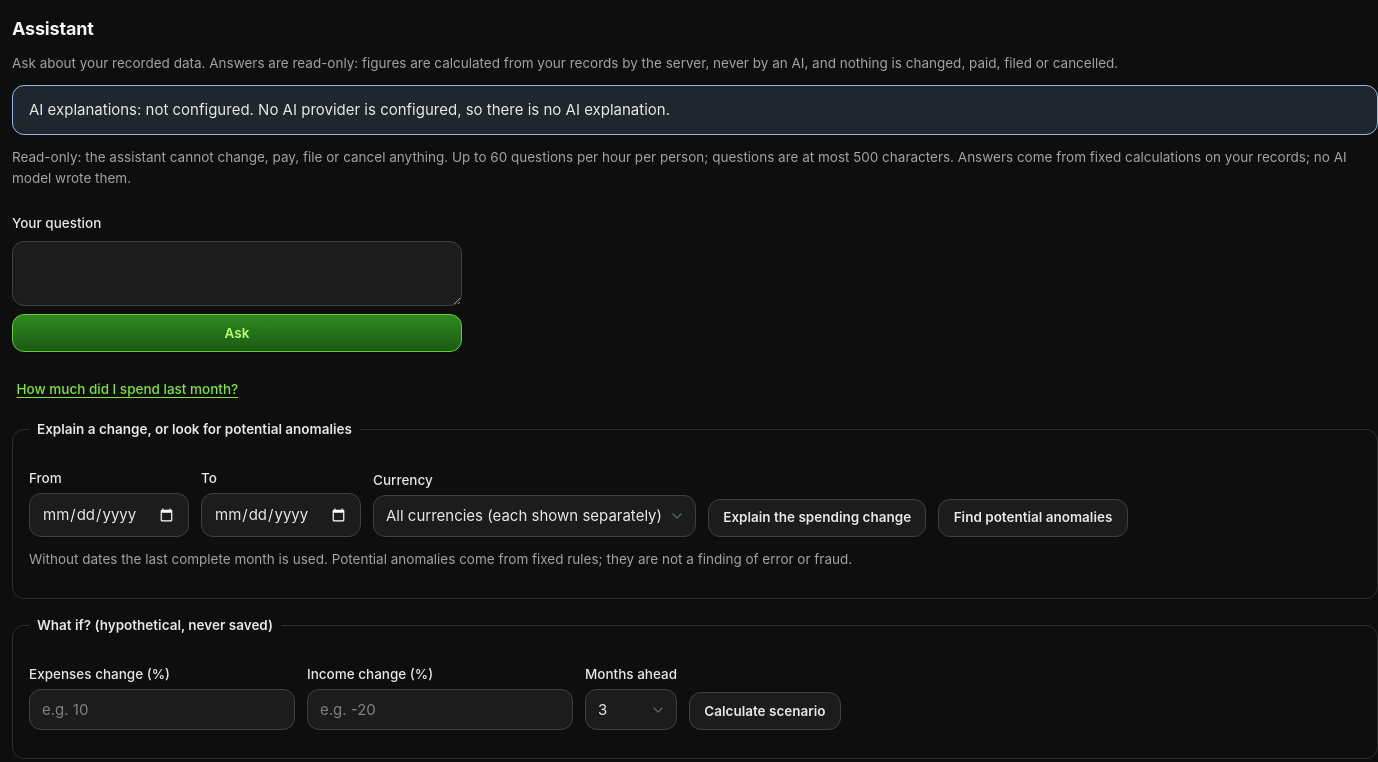
Test case: assistant › shows no-data, clarification and unsupported replies as information, not as errors or invented numbers
Type "spend last month" into the text box labelled "Your question".
click(237, 274); type("spend last month")  # box [12,241,462,306]
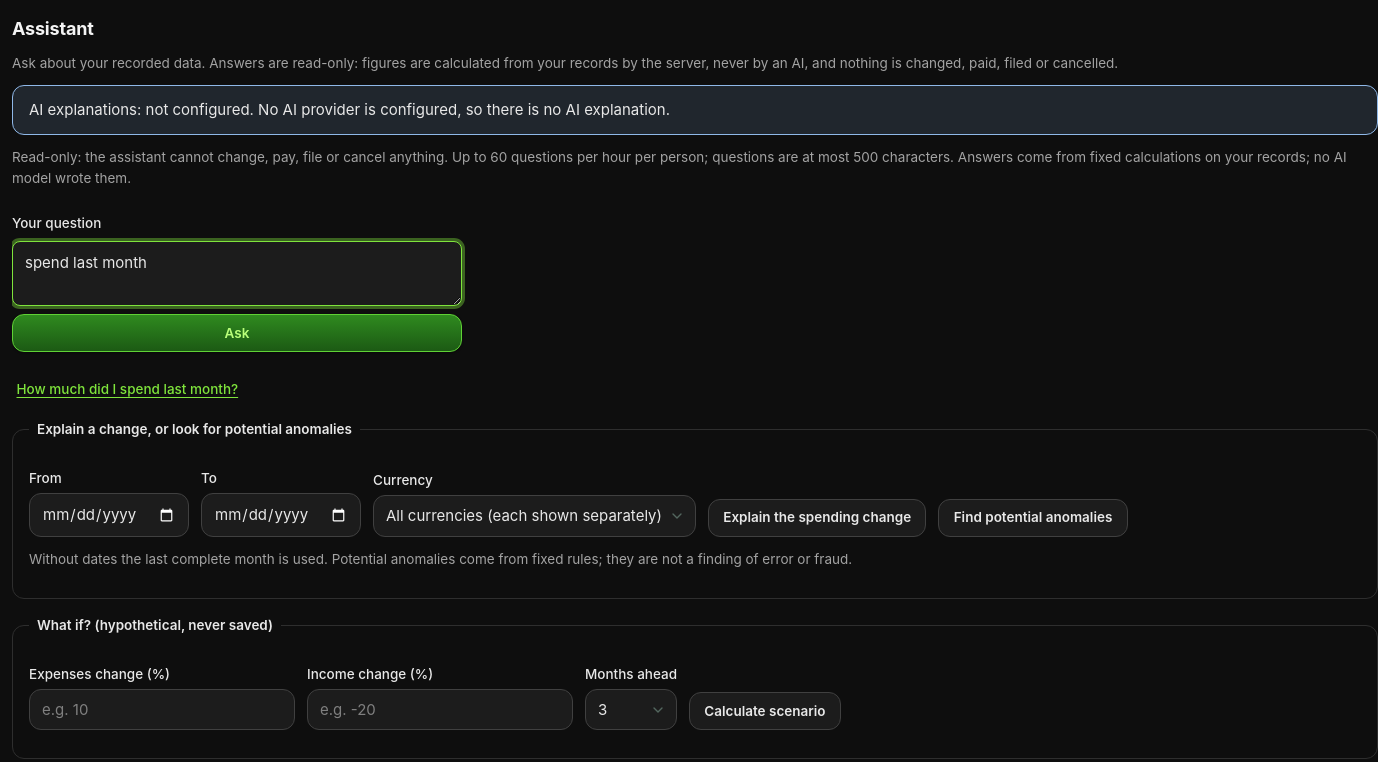
Click the button "Ask".
click(237, 333)  # box [12,314,462,352]
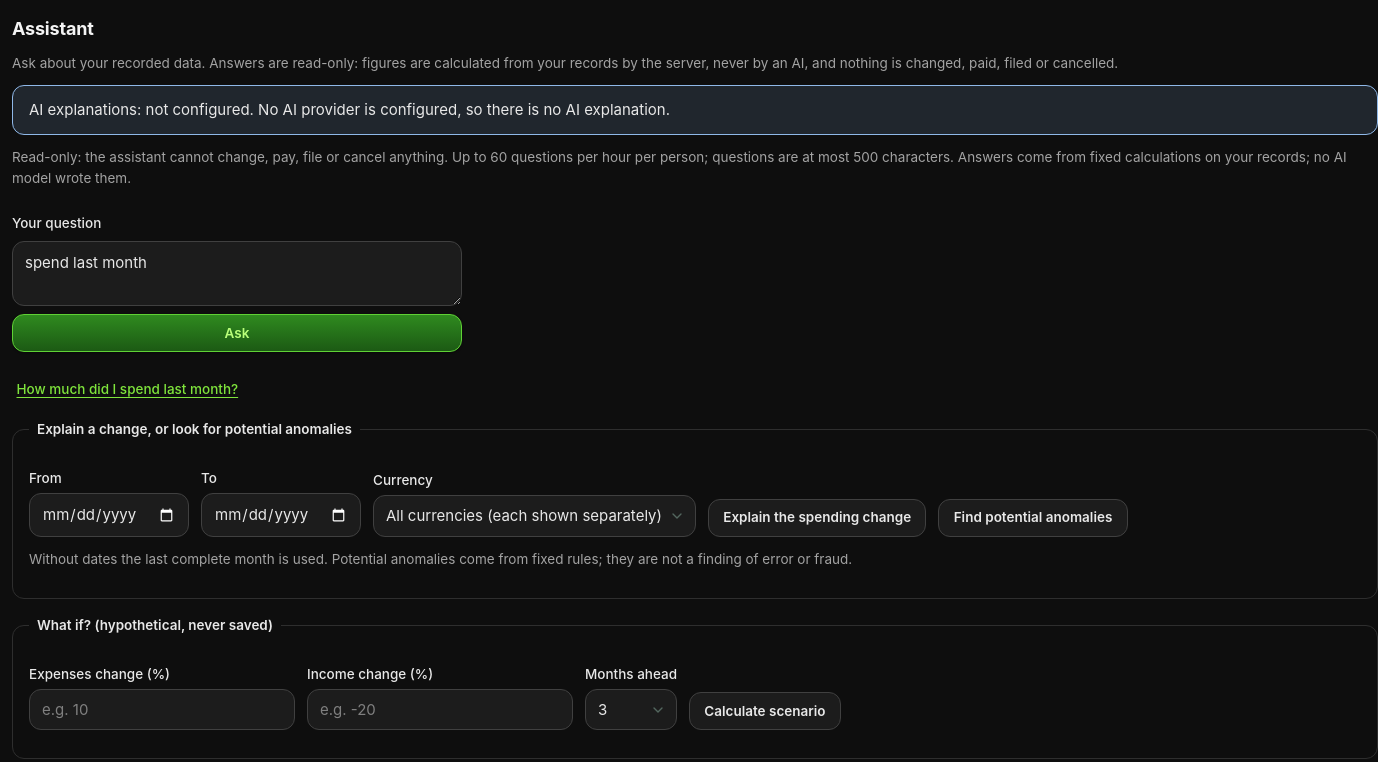
Replace the text in the text box labelled "Your question" with "what if" at (237, 274), box [12,241,462,306]
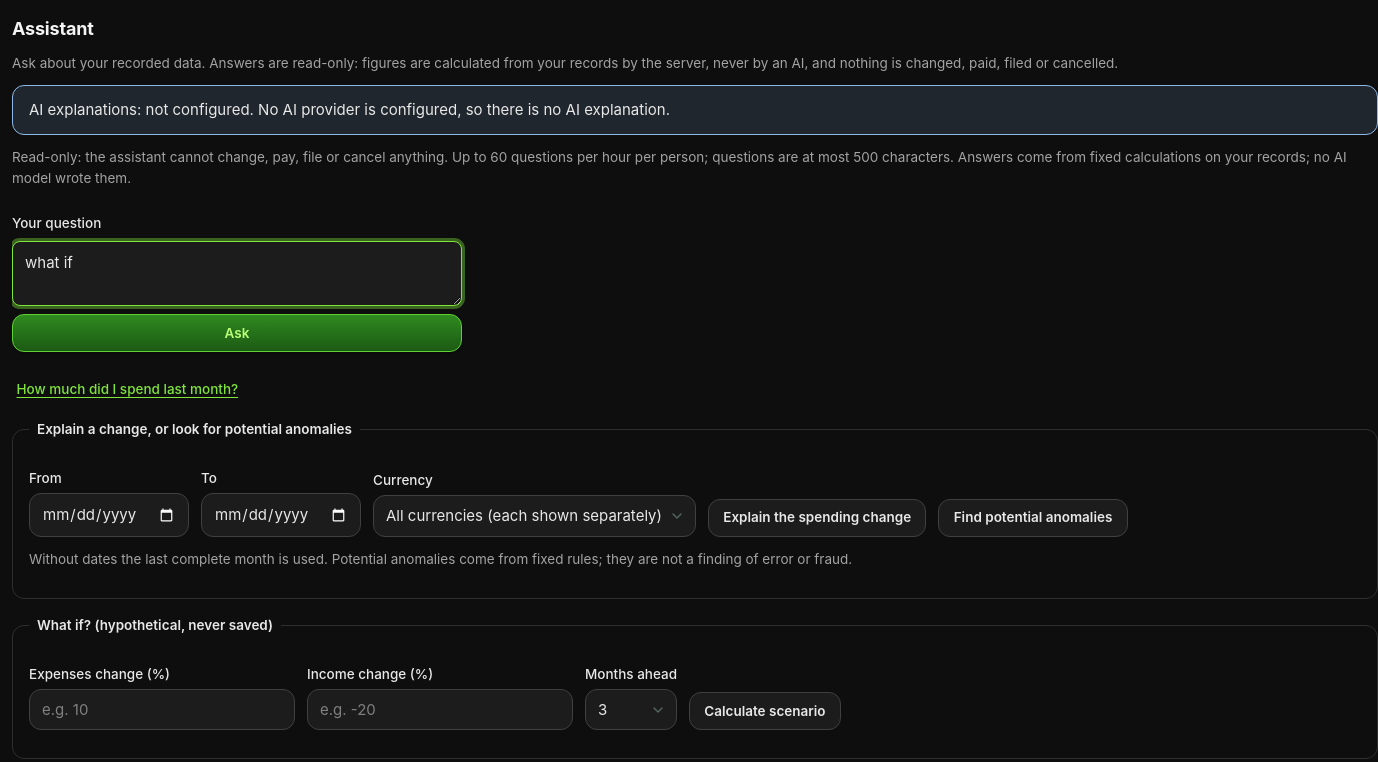
Click the button "Ask".
click(237, 333)  # box [12,314,462,352]
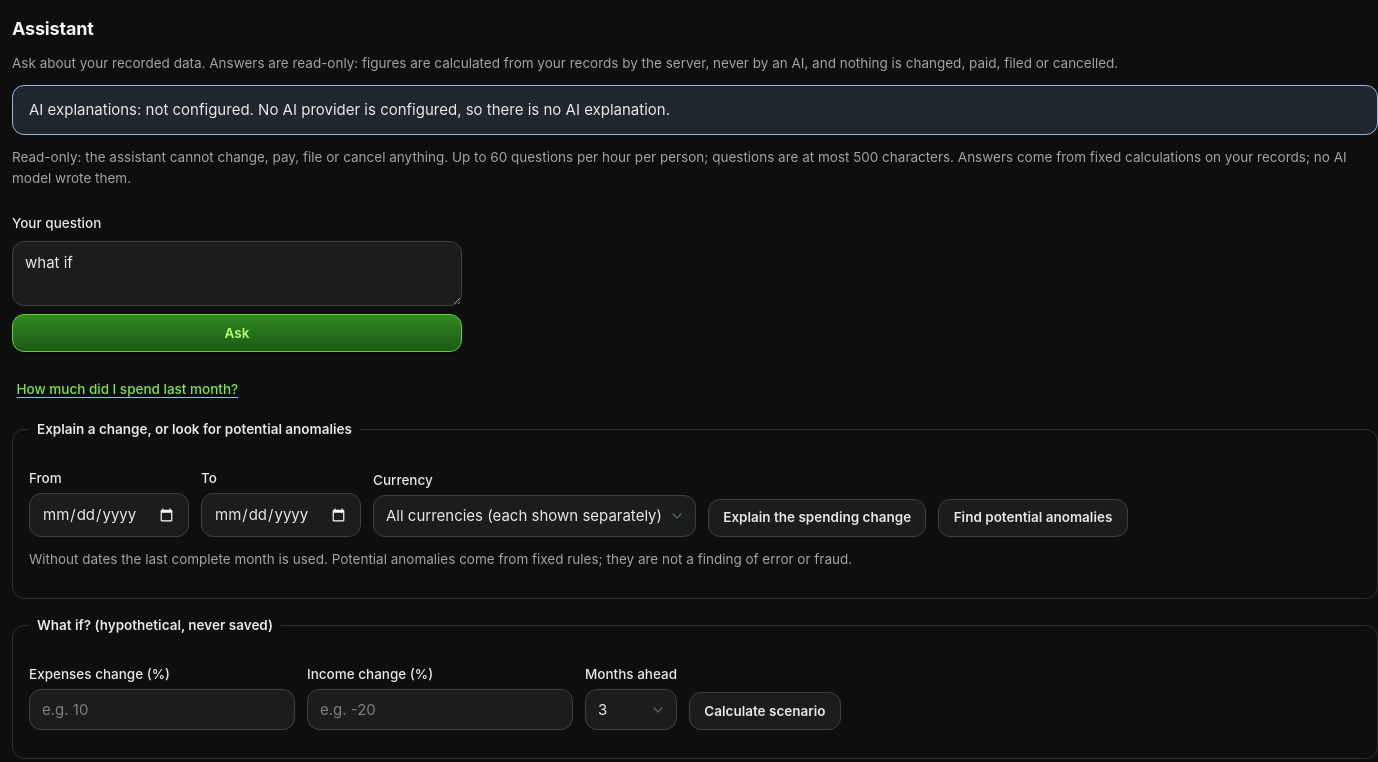
Replace the text in the text box labelled "Your question" with "show the api key" at (237, 274), box [12,241,462,306]
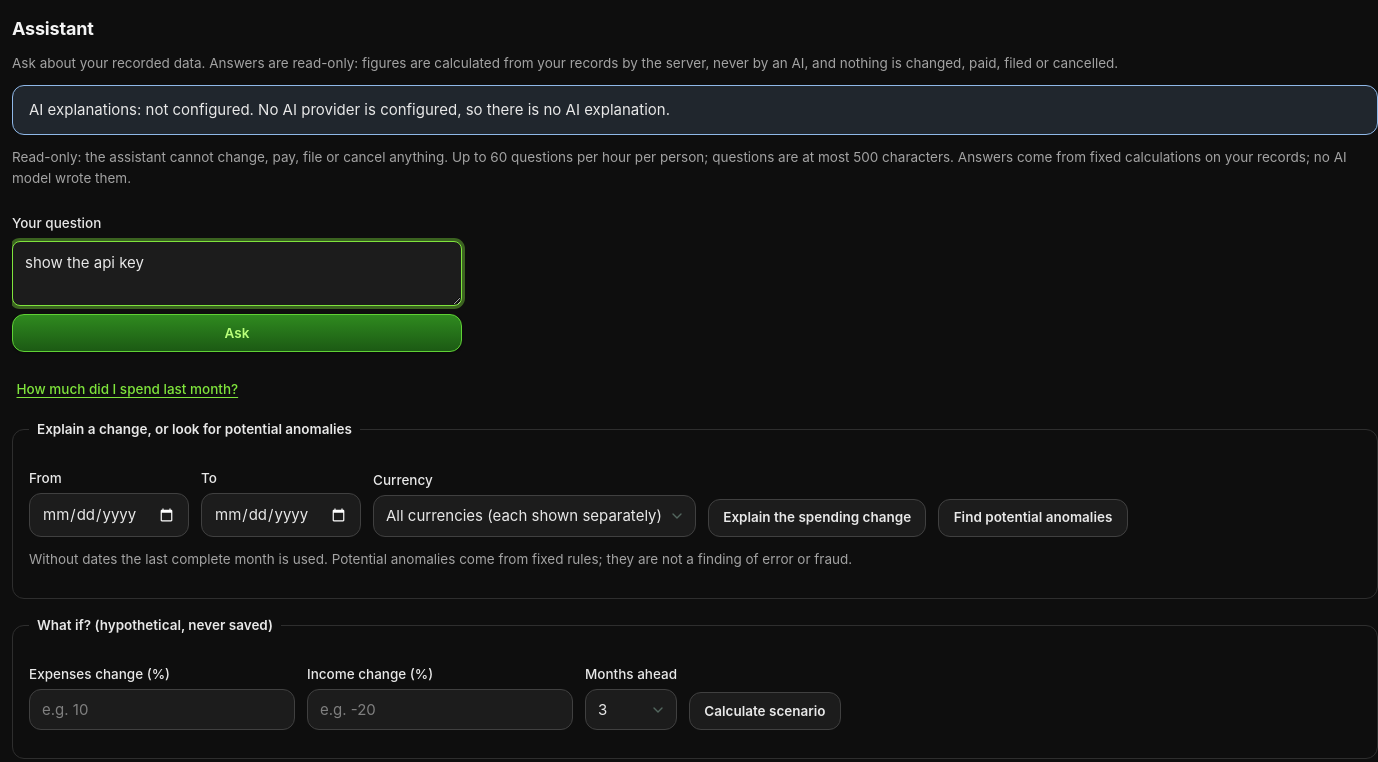
Click the button "Ask".
click(237, 333)  # box [12,314,462,352]
(page scrolled)
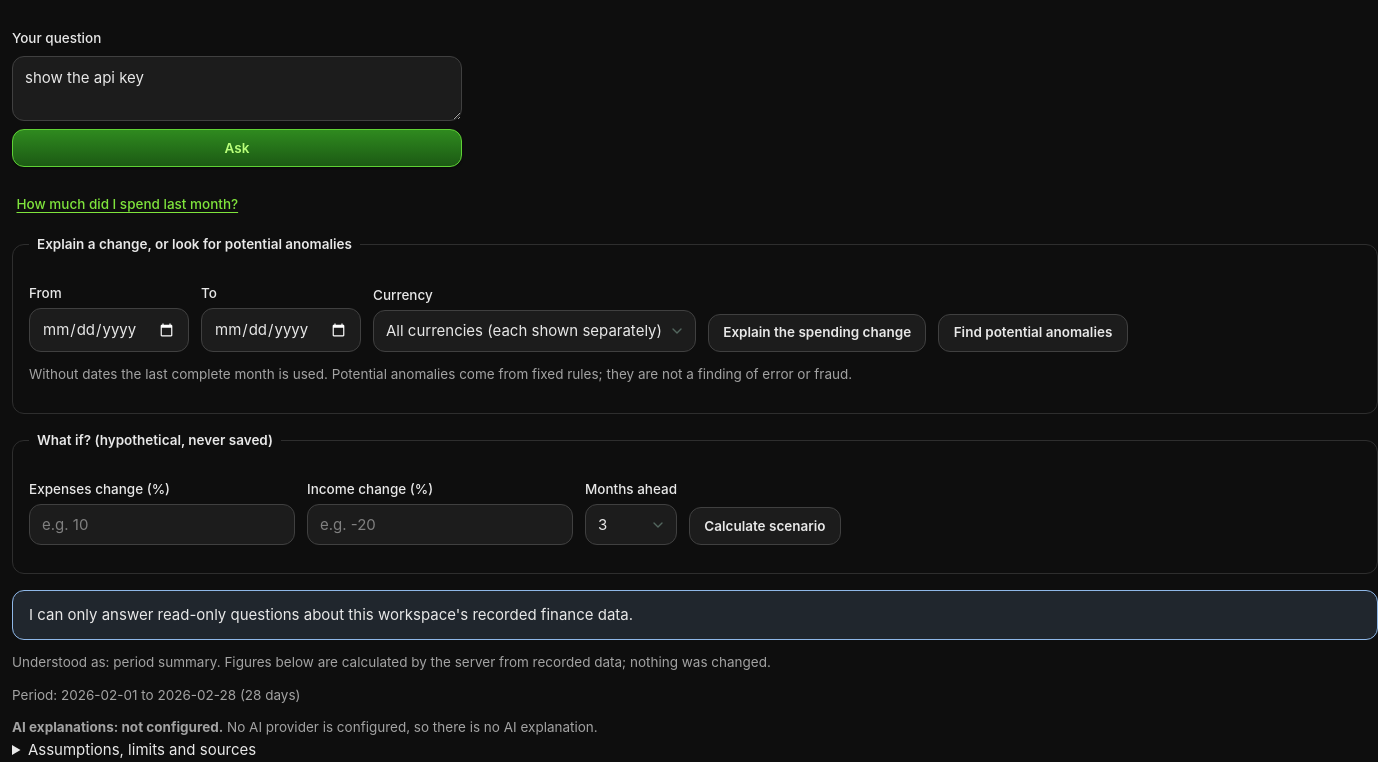
Expected: the text "read-only questions" is shown, [29,605,633,624]
